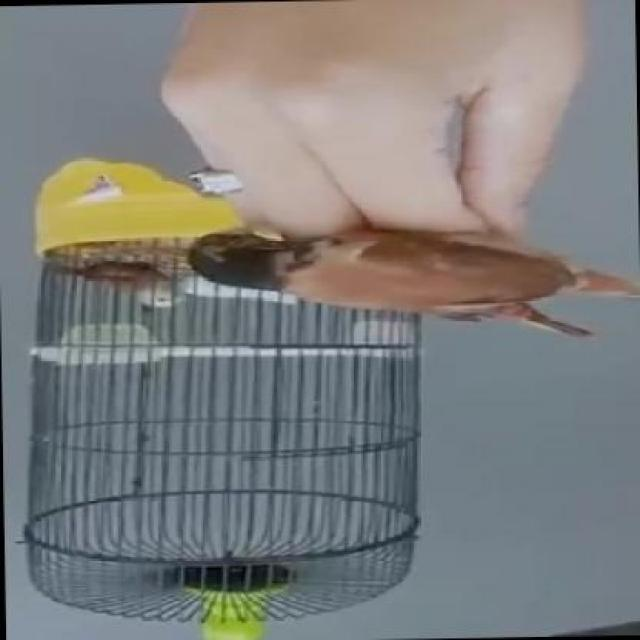Bird: (178, 194, 631, 377), (73, 236, 176, 334)
